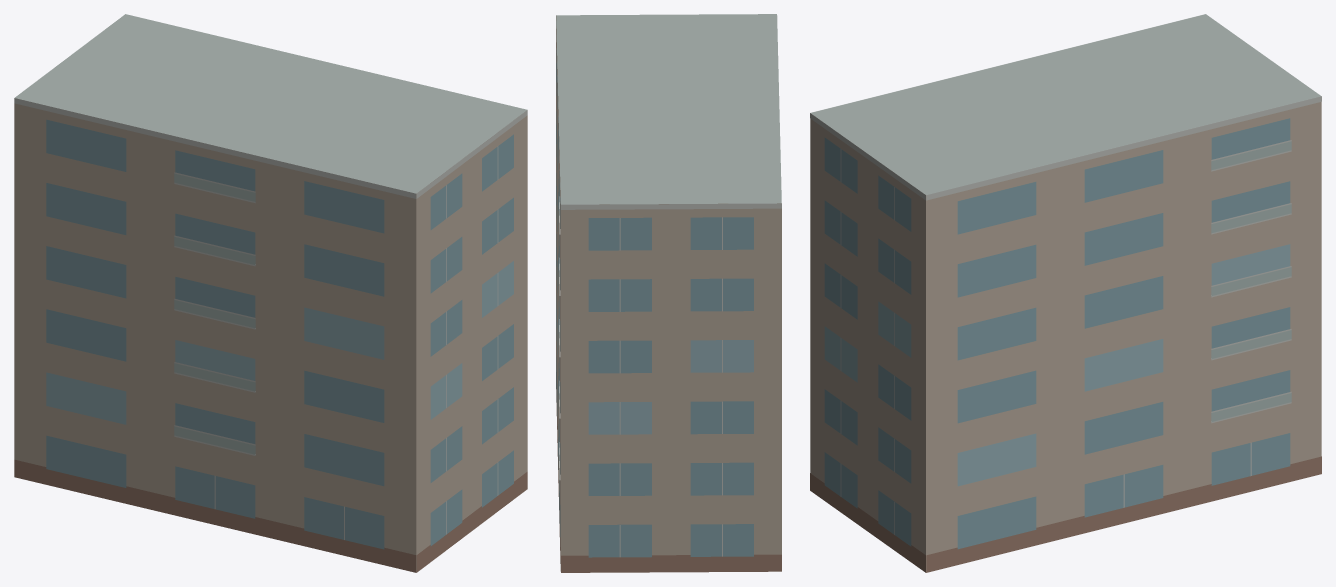
Rendered from survey-upis-33020331.glb.
The picture shows the model from 3 angles, left to right: view 1: azimuth 30°, elevation 25°; view 2: azimuth 150°, elevation 25°; view 3: azimuth 270°, elevation 25°; orthographic projection. The views are drawn at different scales.
Visible parts, largest first — view 1: survey-upis-33020331.tmp; view 2: survey-upis-33020331.tmp; view 3: survey-upis-33020331.tmp.
Boxes of the visible parts, bbox=[...] form: survey-upis-33020331.tmp: bbox=[14, 14, 527, 572]; survey-upis-33020331.tmp: bbox=[556, 14, 781, 572]; survey-upis-33020331.tmp: bbox=[810, 14, 1321, 572].
Size of the model in its own units: 17.71 by 17.2 by 21.13.
